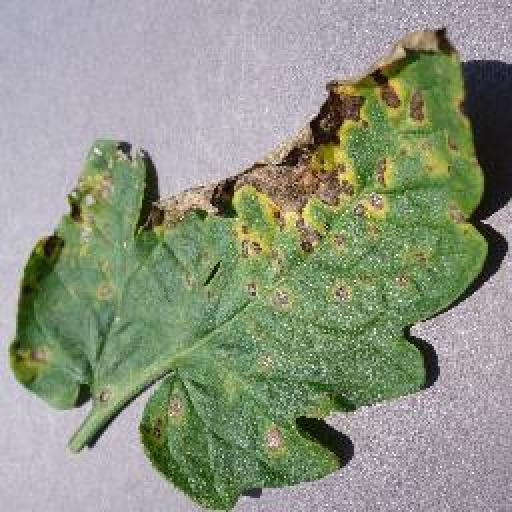Septoria: (8, 26, 488, 512)
